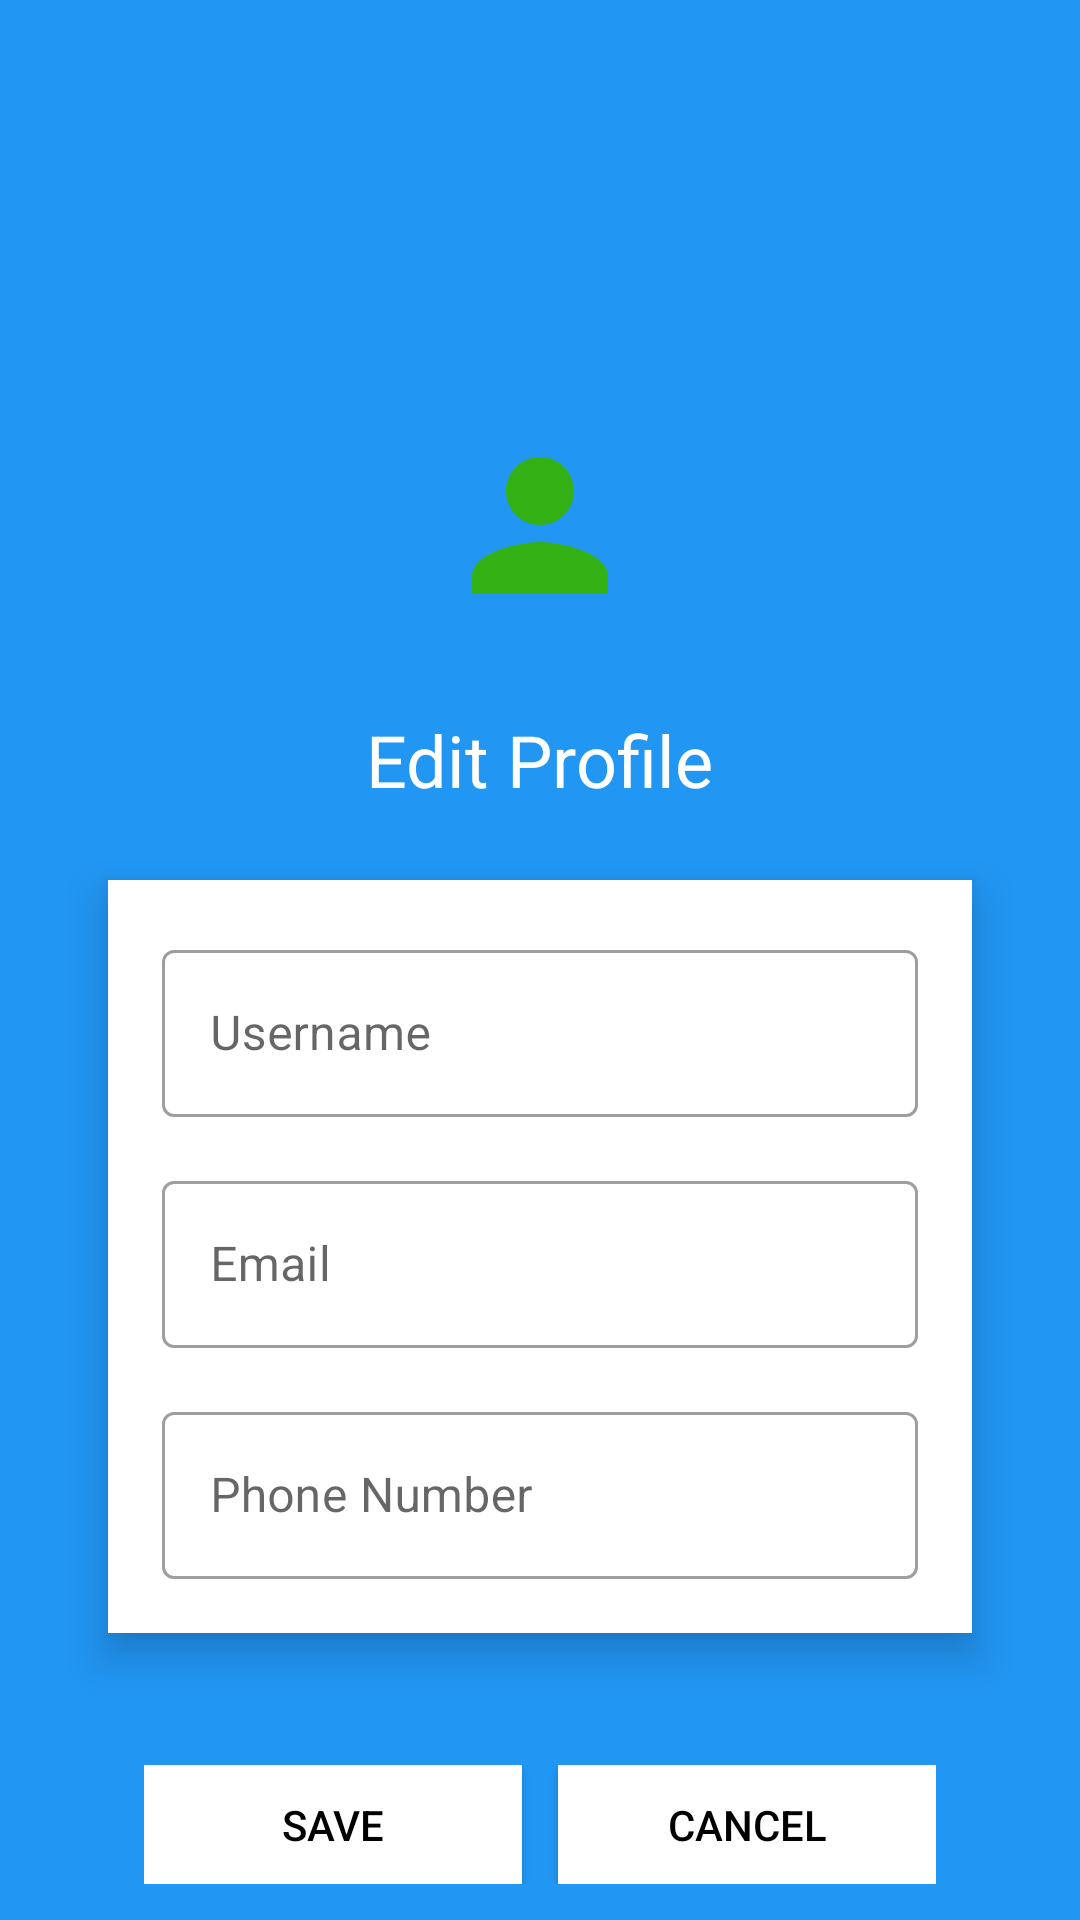

Icons on this 1080x1920 Android screen, each with its box as Rect(x1, y1, x2, y2):
person: Rect(472, 457, 608, 593)
